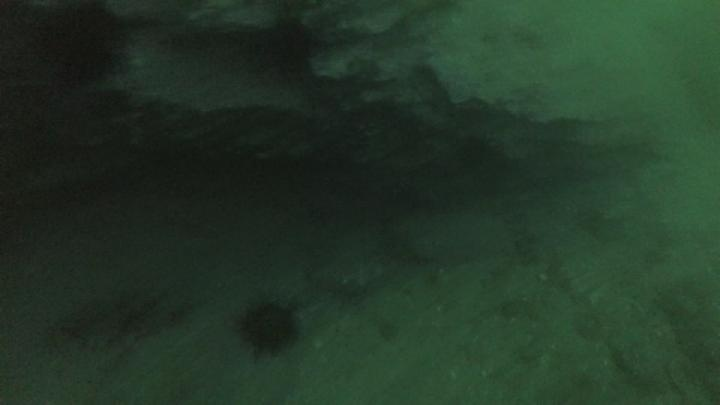echinus: (243, 17, 318, 86), (233, 292, 305, 360)
